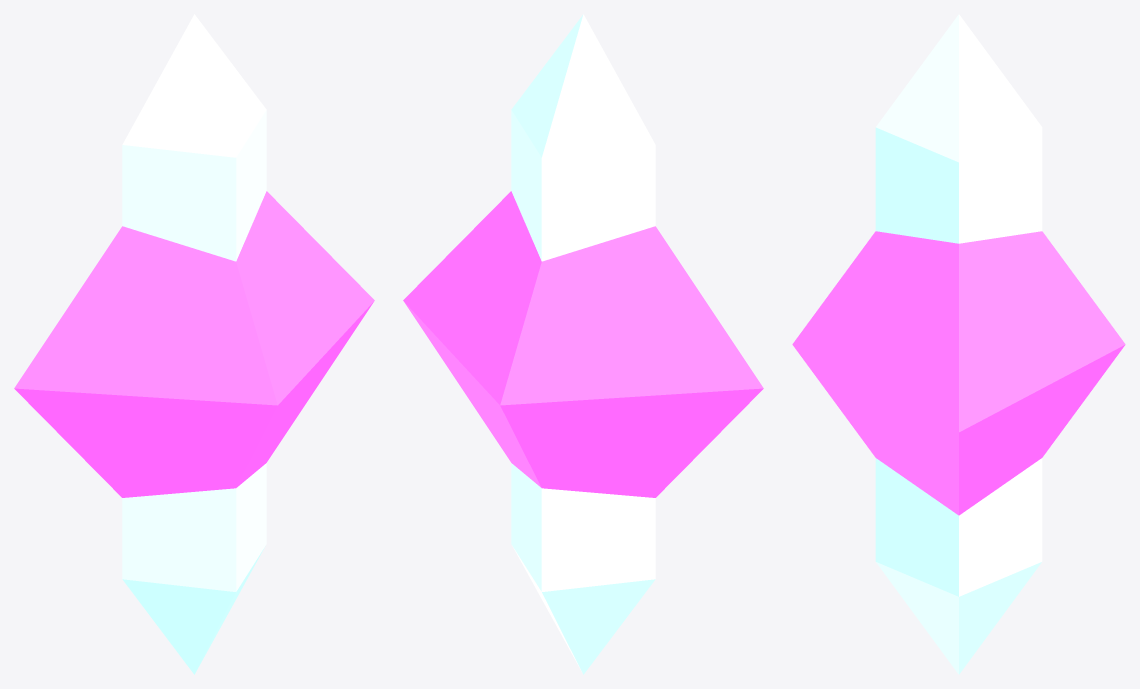
Rendered from shots.glb.
3 views of the same model, side by side, from view 1: azimuth 30°, elevation 25°; view 2: azimuth 150°, elevation 25°; view 3: azimuth 270°, elevation 25° (orthographic).
Visible parts, largest first — view 1: diamond, bolt; view 2: diamond, bolt; view 3: diamond, bolt.
Boxes of the visible parts, x1=… form: diamond: x1=14, y1=191, x2=374, y2=497; bolt: x1=122, y1=14, x2=266, y2=674; diamond: x1=403, y1=191, x2=763, y2=497; bolt: x1=511, y1=14, x2=655, y2=674; diamond: x1=792, y1=231, x2=1125, y2=515; bolt: x1=875, y1=14, x2=1042, y2=674.
Size of the model in its own units: 4 by 7 by 3.2.
